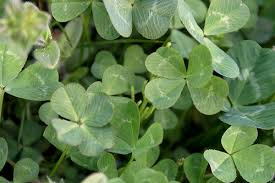4-clover: (143, 44, 229, 117), (49, 82, 116, 158)
